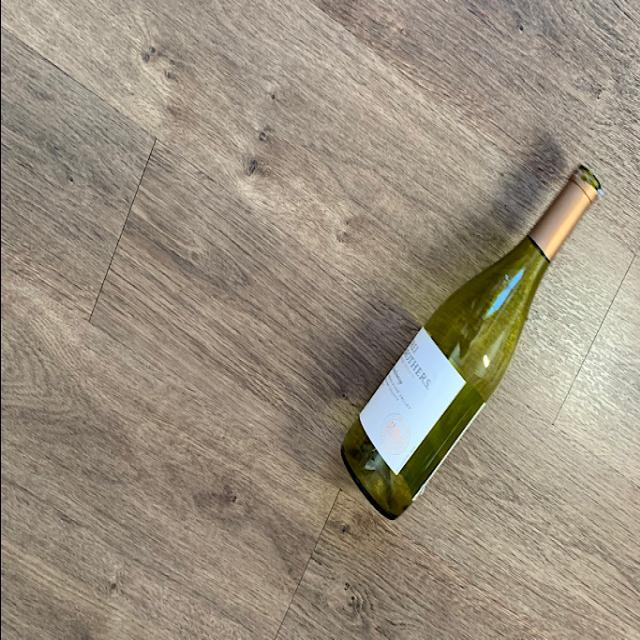Glass Bottle: (340, 158, 600, 524)
